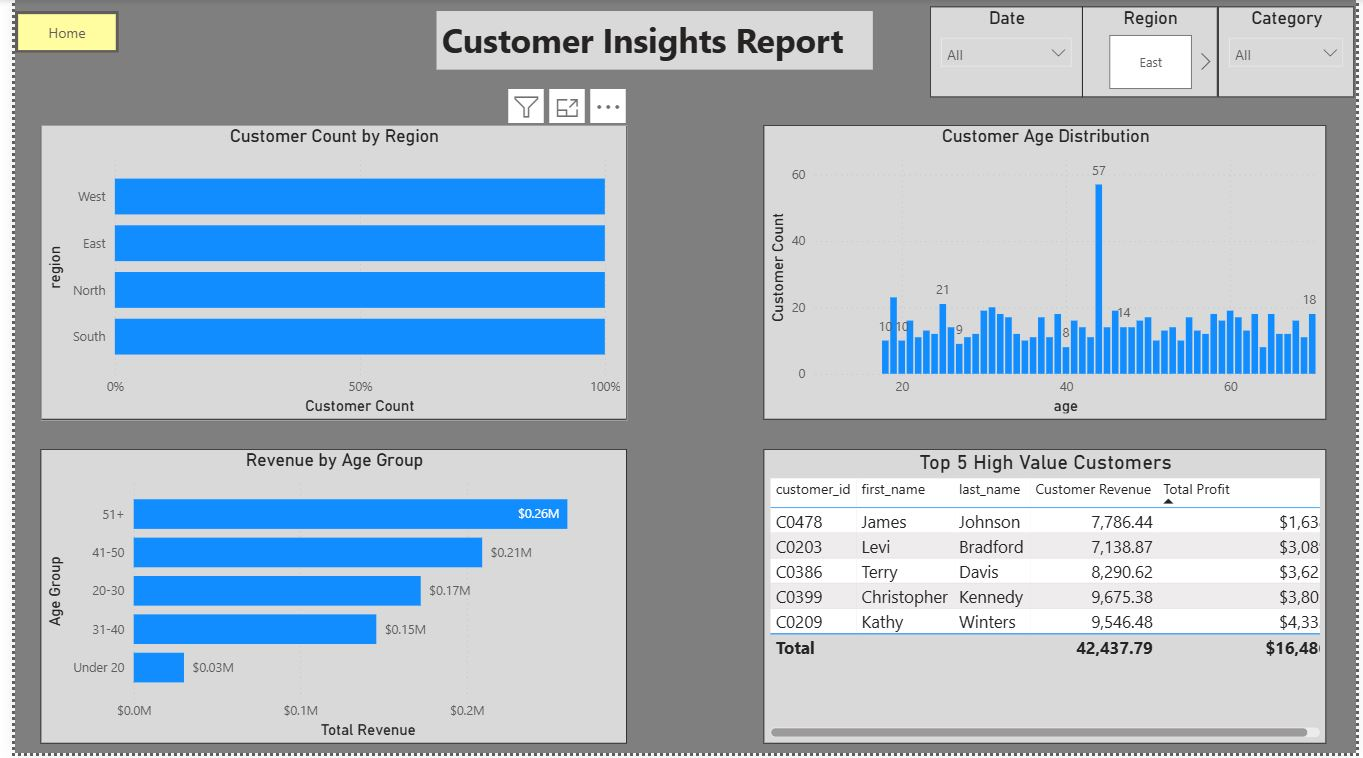

What the dashboard file says about the page in this screenshot:
{"tool":"powerbi","page":{"name":"Customer Insights Report","canvas":[1280,720],"ordinal":2},"visuals":[{"type":"hundredPercentStackedBarChart","title":"Customer Count by Region","fields":{"Category":["customers_cleaned.region"],"Y":["customers_cleaned.Customer Count"]},"box":[23.9,120.9,559.9,281.5],"z":0},{"type":"clusteredColumnChart","title":"Customer Age Distribution","fields":{"Y":["customers_cleaned.Customer Count"],"Category":["customers_cleaned.age"]},"box":[714.2,120.9,537.6,281.5],"z":1000},{"type":"clusteredBarChart","title":"Revenue by Age Group","fields":{"Category":["customers_cleaned.Age Group"],"Y":["sales_cleaned.Total Revenue"]},"box":[23.9,429.5,559.9,281.5],"z":2000},{"type":"tableEx","title":"Top 5 High Value Customers","fields":{"Values":["customers_cleaned.customer_id","customers_cleaned.first_name","customers_cleaned.last_name","customers_cleaned.Customer Revenue","sales_cleaned.Total Profit"]},"box":[714.2,429.5,537.6,281.5],"z":3000},{"type":"slicer","title":"Category","fields":{"Values":["products_cleaned.category"]},"box":[1149.2,7.8,130.3,86.9],"z":4000},{"type":"slicer","title":"Region","fields":{"Values":["customers_cleaned.region"]},"box":[1018.9,7.8,130.3,86.9],"z":5000},{"type":"slicer","title":"Date","fields":{"Values":["sales_cleaned.order_date.Variation.Date Hierarchy.Year","sales_cleaned.order_date.Variation.Date Hierarchy.Quarter","sales_cleaned.order_date.Variation.Date Hierarchy.Month"]},"box":[873.2,7.8,145.8,86.9],"z":6000},{"type":"textbox","box":[402.4,11.1,416.7,55.7],"z":7000},{"type":"actionButton","box":[0,10.9,99.3,40.3],"z":8000}]}

Visuals, with their boxes in screenshot pixels (x1, y1, x2, y2), scaled from the page's 1280x720 canvas onto the 1363x758 screenshot:
"Customer Count by Region" hundredPercentStackedBarChart: {"left": 25, "top": 127, "right": 622, "bottom": 424}
"Customer Age Distribution" clusteredColumnChart: {"left": 761, "top": 127, "right": 1333, "bottom": 424}
"Revenue by Age Group" clusteredBarChart: {"left": 25, "top": 452, "right": 622, "bottom": 749}
"Top 5 High Value Customers" tableEx: {"left": 761, "top": 452, "right": 1333, "bottom": 749}
"Category" slicer: {"left": 1224, "top": 8, "right": 1362, "bottom": 100}
"Region" slicer: {"left": 1085, "top": 8, "right": 1224, "bottom": 100}
"Date" slicer: {"left": 930, "top": 8, "right": 1085, "bottom": 100}
textbox: {"left": 428, "top": 12, "right": 872, "bottom": 70}
actionButton: {"left": 0, "top": 11, "right": 106, "bottom": 54}
